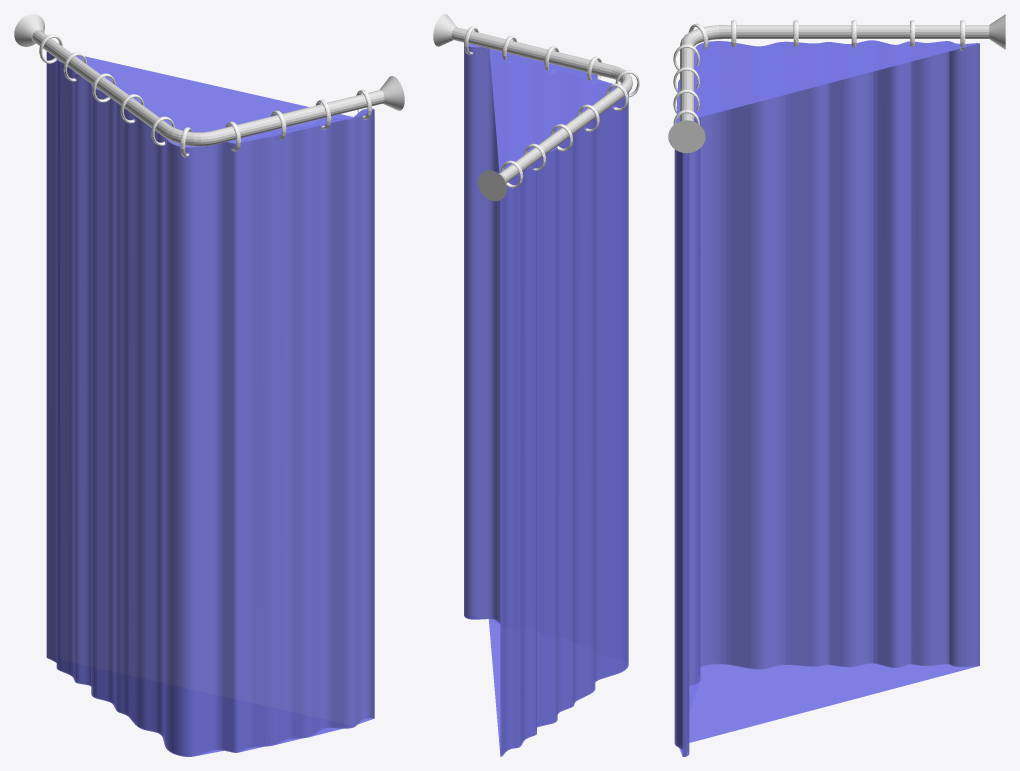
The model's file is tendaDoccia.obj.
3 views of the same model, side by side, from view 1: azimuth 30°, elevation 25°; view 2: azimuth 150°, elevation 25°; view 3: azimuth 270°, elevation 25° (orthographic). The views are drawn at different scales.
Parts seen in each view (by area): view 1: 1_1, 8_8, 13_13, 14_14; view 2: 1_1, 8_8, 13_13, 14_14, 4_4; view 3: 1_1, 8_8, 13_13, 4_4.
Part boxes in pixels (x1=…): 1_1: x1=46, y1=51, x2=374, y2=756; 8_8: x1=32, y1=30, x2=384, y2=146; 13_13: x1=39, y1=34, x2=371, y2=157; 14_14: x1=14, y1=14, x2=44, y2=46; 1_1: x1=464, y1=43, x2=628, y2=756; 8_8: x1=451, y1=27, x2=632, y2=182; 13_13: x1=464, y1=26, x2=639, y2=188; 14_14: x1=478, y1=170, x2=506, y2=201; 4_4: x1=433, y1=14, x2=456, y2=46; 1_1: x1=674, y1=40, x2=979, y2=756; 8_8: x1=680, y1=25, x2=989, y2=121; 13_13: x1=673, y1=20, x2=965, y2=124; 4_4: x1=668, y1=120, x2=705, y2=153.
Bounding box in the file's own units: 73.59 × 198 × 93.39.
